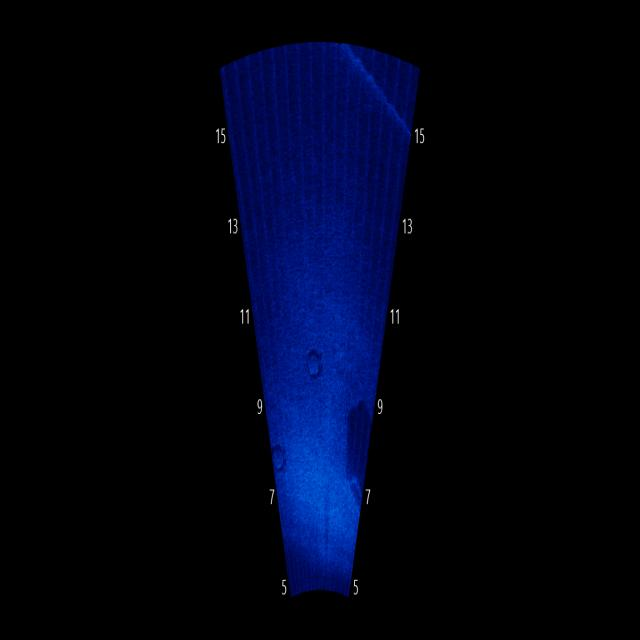circle: (302, 336, 330, 391)
